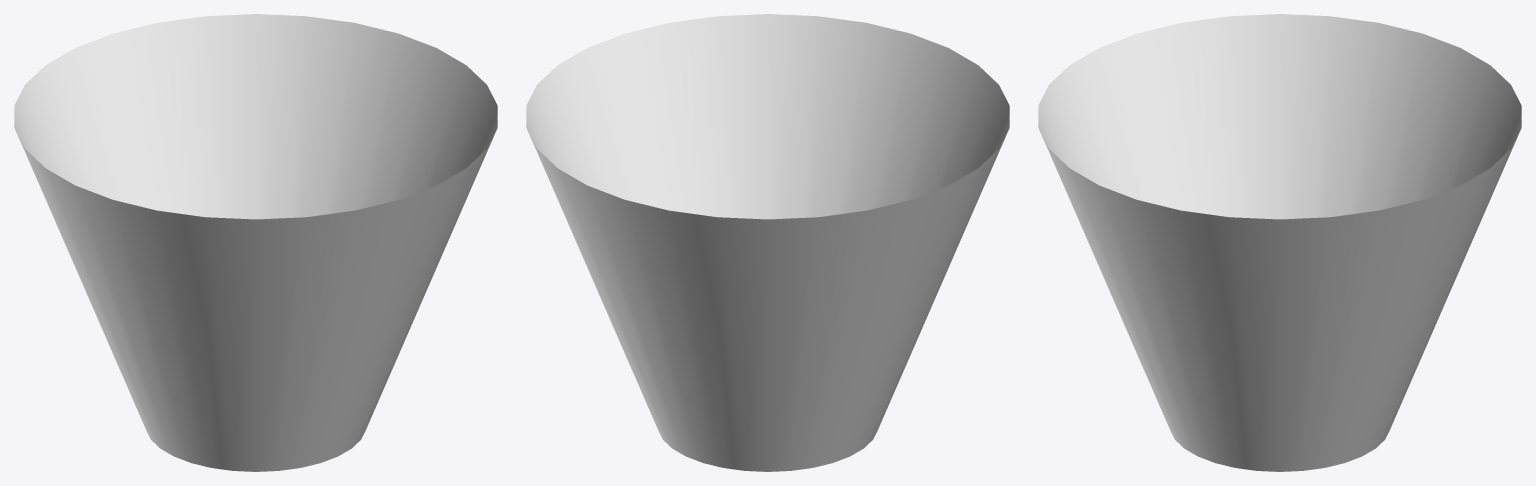
The model's file is ShockWave01.fbx.
3 views of the same model, side by side, from view 1: azimuth 30°, elevation 25°; view 2: azimuth 150°, elevation 25°; view 3: azimuth 270°, elevation 25° (orthographic).
Parts seen in each view (by area): view 1: ShockWave01; view 2: ShockWave01; view 3: ShockWave01.
Boxes of the visible parts, box(x1,y1,x2,y2) form: ShockWave01: box(14, 14, 497, 471); ShockWave01: box(526, 14, 1009, 471); ShockWave01: box(1038, 14, 1521, 471).
Bounding box in the file's own units: 86.64 × 86.17 × 60.67.
